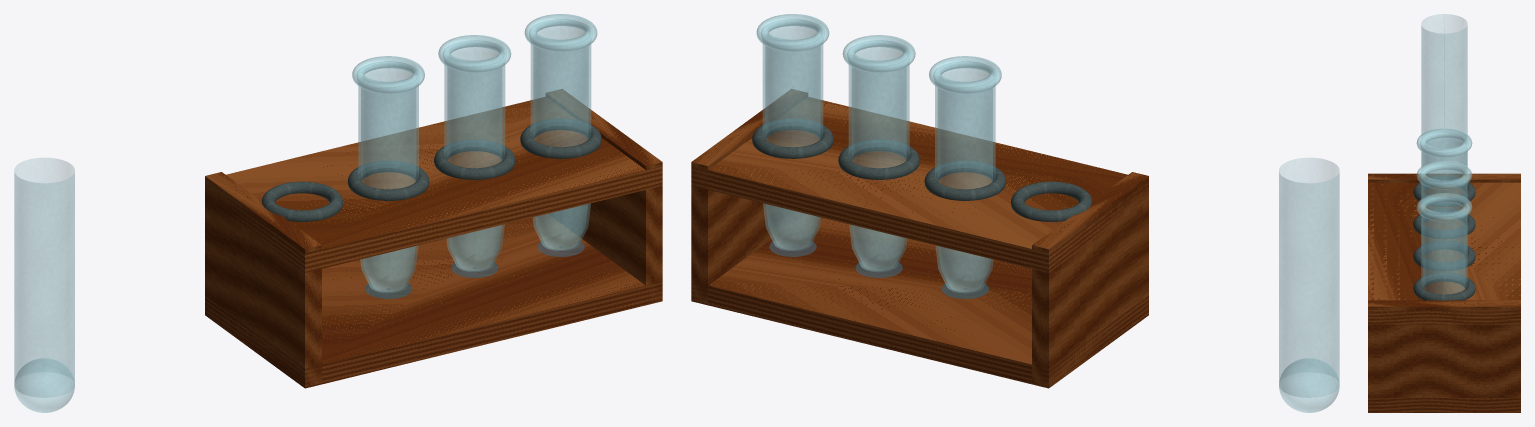
File: alat-27.glb
3 views of the same model, side by side, from view 1: azimuth 30°, elevation 25°; view 2: azimuth 150°, elevation 25°; view 3: azimuth 270°, elevation 25° (orthographic). The views are drawn at different scales.
Visible parts, largest first — view 1: box-0, box-1, box-2, toolPart-17, testTube-10, testTube-14, testTube-6, box-3, toolPart-18, torus-5, torus-13, torus-9 (+4 smaller); view 2: box-0, box-1, box-2, toolPart-17, testTube-10, testTube-14, testTube-6, box-3, toolPart-18, torus-5, torus-13, torus-9 (+4 smaller); view 3: box-1, box-3, toolPart-17, testTube-14, box-0, testTube-10, testTube-6, box-2, torus-9, torus-5, torus-13, torus-4 (+3 smaller).
Boxes of the visible parts, left/top/right/bottom form: box-0: left=205, top=214, right=662, bottom=388; box-1: left=205, top=97, right=662, bottom=272; box-2: left=205, top=172, right=321, bottom=386; toolPart-17: left=14, top=158, right=74, bottom=397; testTube-10: left=443, top=40, right=506, bottom=272; testTube-14: left=529, top=19, right=592, bottom=250; testTube-6: left=356, top=61, right=420, bottom=293; box-3: left=546, top=89, right=662, bottom=302; toolPart-18: left=14, top=358, right=74, bottom=412; torus-5: left=347, top=161, right=429, bottom=200; torus-13: left=520, top=119, right=601, bottom=158; torus-9: left=434, top=140, right=515, bottom=179; box-0: left=691, top=214, right=1148, bottom=388; box-1: left=691, top=97, right=1148, bottom=272; box-2: left=1032, top=172, right=1148, bottom=386; toolPart-17: left=1279, top=158, right=1339, bottom=397; testTube-10: left=847, top=40, right=910, bottom=272; testTube-14: left=761, top=19, right=824, bottom=250; testTube-6: left=933, top=61, right=997, bottom=293; box-3: left=691, top=89, right=807, bottom=303; toolPart-18: left=1279, top=358, right=1339, bottom=412; torus-5: left=924, top=161, right=1006, bottom=200; torus-13: left=752, top=119, right=833, bottom=158; torus-9: left=838, top=140, right=919, bottom=179; box-1: left=1368, top=182, right=1520, bottom=324; box-3: left=1368, top=300, right=1520, bottom=410; toolPart-17: left=1421, top=14, right=1467, bottom=165; testTube-14: left=1420, top=197, right=1468, bottom=294; box-0: left=1368, top=398, right=1520, bottom=412; testTube-10: left=1420, top=165, right=1468, bottom=250; testTube-6: left=1420, top=133, right=1468, bottom=197; box-2: left=1368, top=173, right=1520, bottom=182; torus-9: left=1413, top=241, right=1475, bottom=270; torus-5: left=1413, top=208, right=1475, bottom=238; torus-13: left=1413, top=273, right=1475, bottom=300; torus-4: left=1413, top=176, right=1475, bottom=206.
Bounding box in the file's own units: 5.65 × 2.33 × 1.65.
19 materials, 19 textured.
